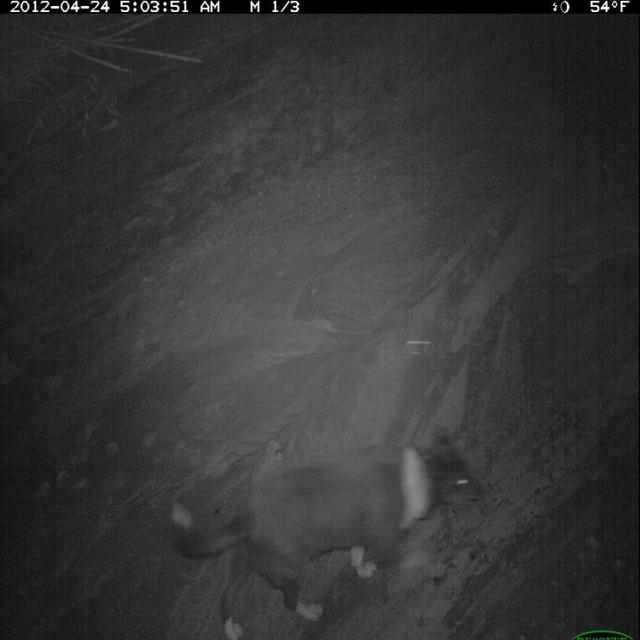dog: (171, 425, 490, 640)
